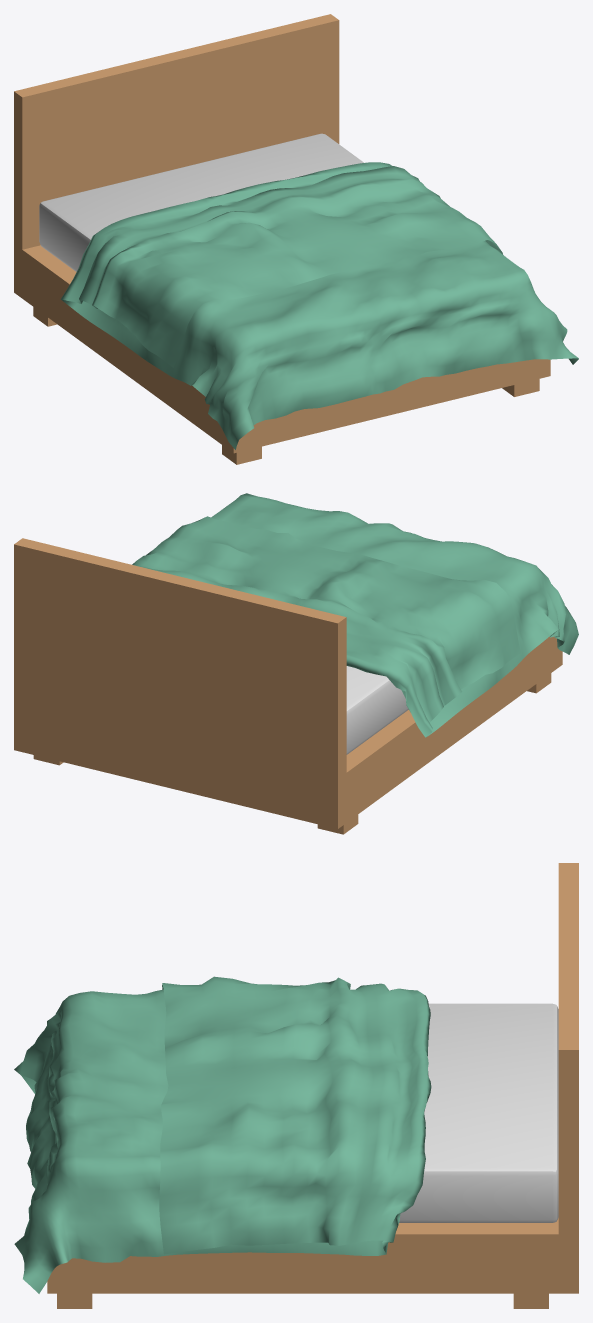
The model's file is sm_newBed.fbx.
3 views of the same model, one above another, from view 1: azimuth 30°, elevation 25°; view 2: azimuth 150°, elevation 25°; view 3: azimuth 270°, elevation 25° (orthographic). The views are drawn at different scales.
Parts seen in each view (by area): view 1: Bedsheet, Cube; view 2: Cube, Bedsheet; view 3: Bedsheet, Cube.
Part boxes in pixels (x1,y1,x2,y2): Bedsheet: (60, 162, 578, 449); Cube: (14, 14, 550, 464); Cube: (14, 538, 562, 834); Bedsheet: (132, 493, 578, 737); Bedsheet: (14, 976, 431, 1293); Cube: (47, 863, 578, 1308).
Bounding box in the file's own units: 211 × 120 × 233.
